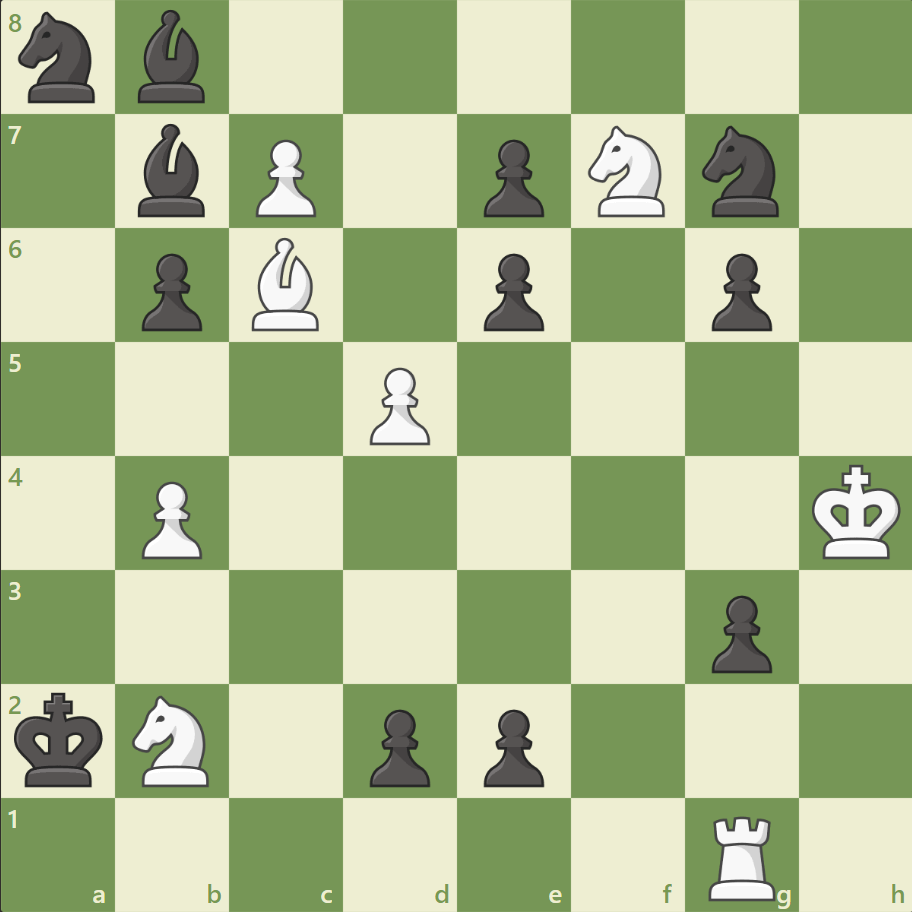B: (244, 233, 328, 336)
K: (806, 458, 906, 566)
N: (124, 688, 222, 791), (579, 121, 676, 223)
P: (247, 132, 322, 223), (133, 473, 208, 564), (361, 359, 435, 450)
R: (700, 806, 783, 904)
b: (131, 6, 215, 109), (131, 120, 215, 222)
k: (11, 685, 111, 793)
n: (11, 7, 108, 110), (692, 121, 789, 223)
p: (474, 132, 549, 223), (133, 246, 208, 337), (474, 246, 549, 337), (701, 246, 776, 337), (701, 586, 776, 677), (474, 700, 549, 791), (361, 700, 435, 791)
